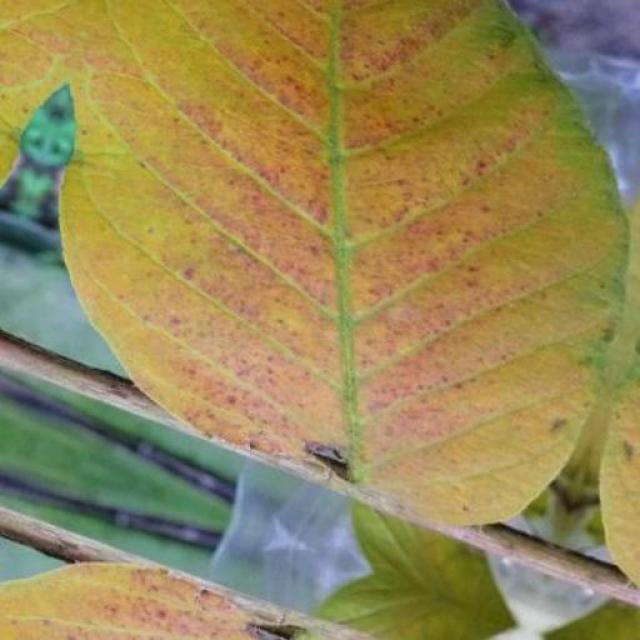Rust: (61, 0, 626, 522)
